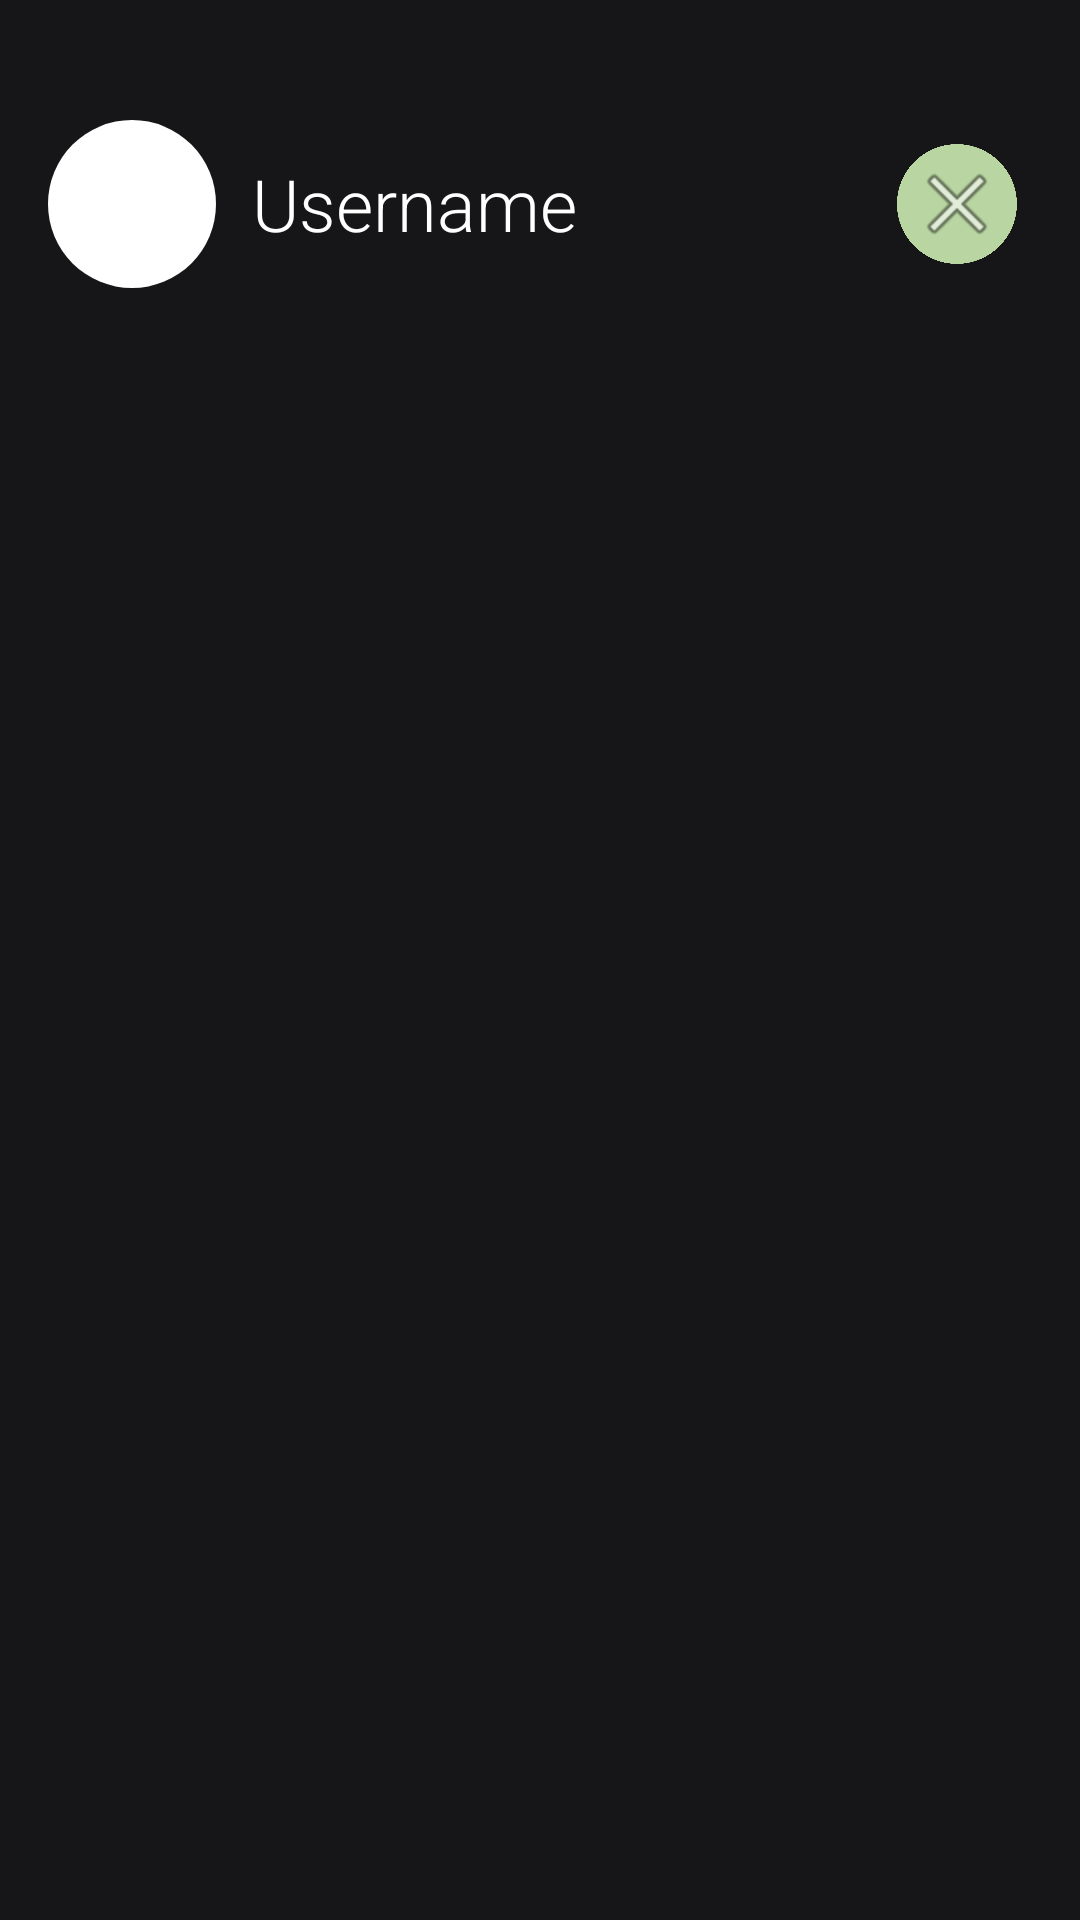

Icon click points for this 1080w x 1920h phone screenshot, format [x,y]:
Close: [957,204]
